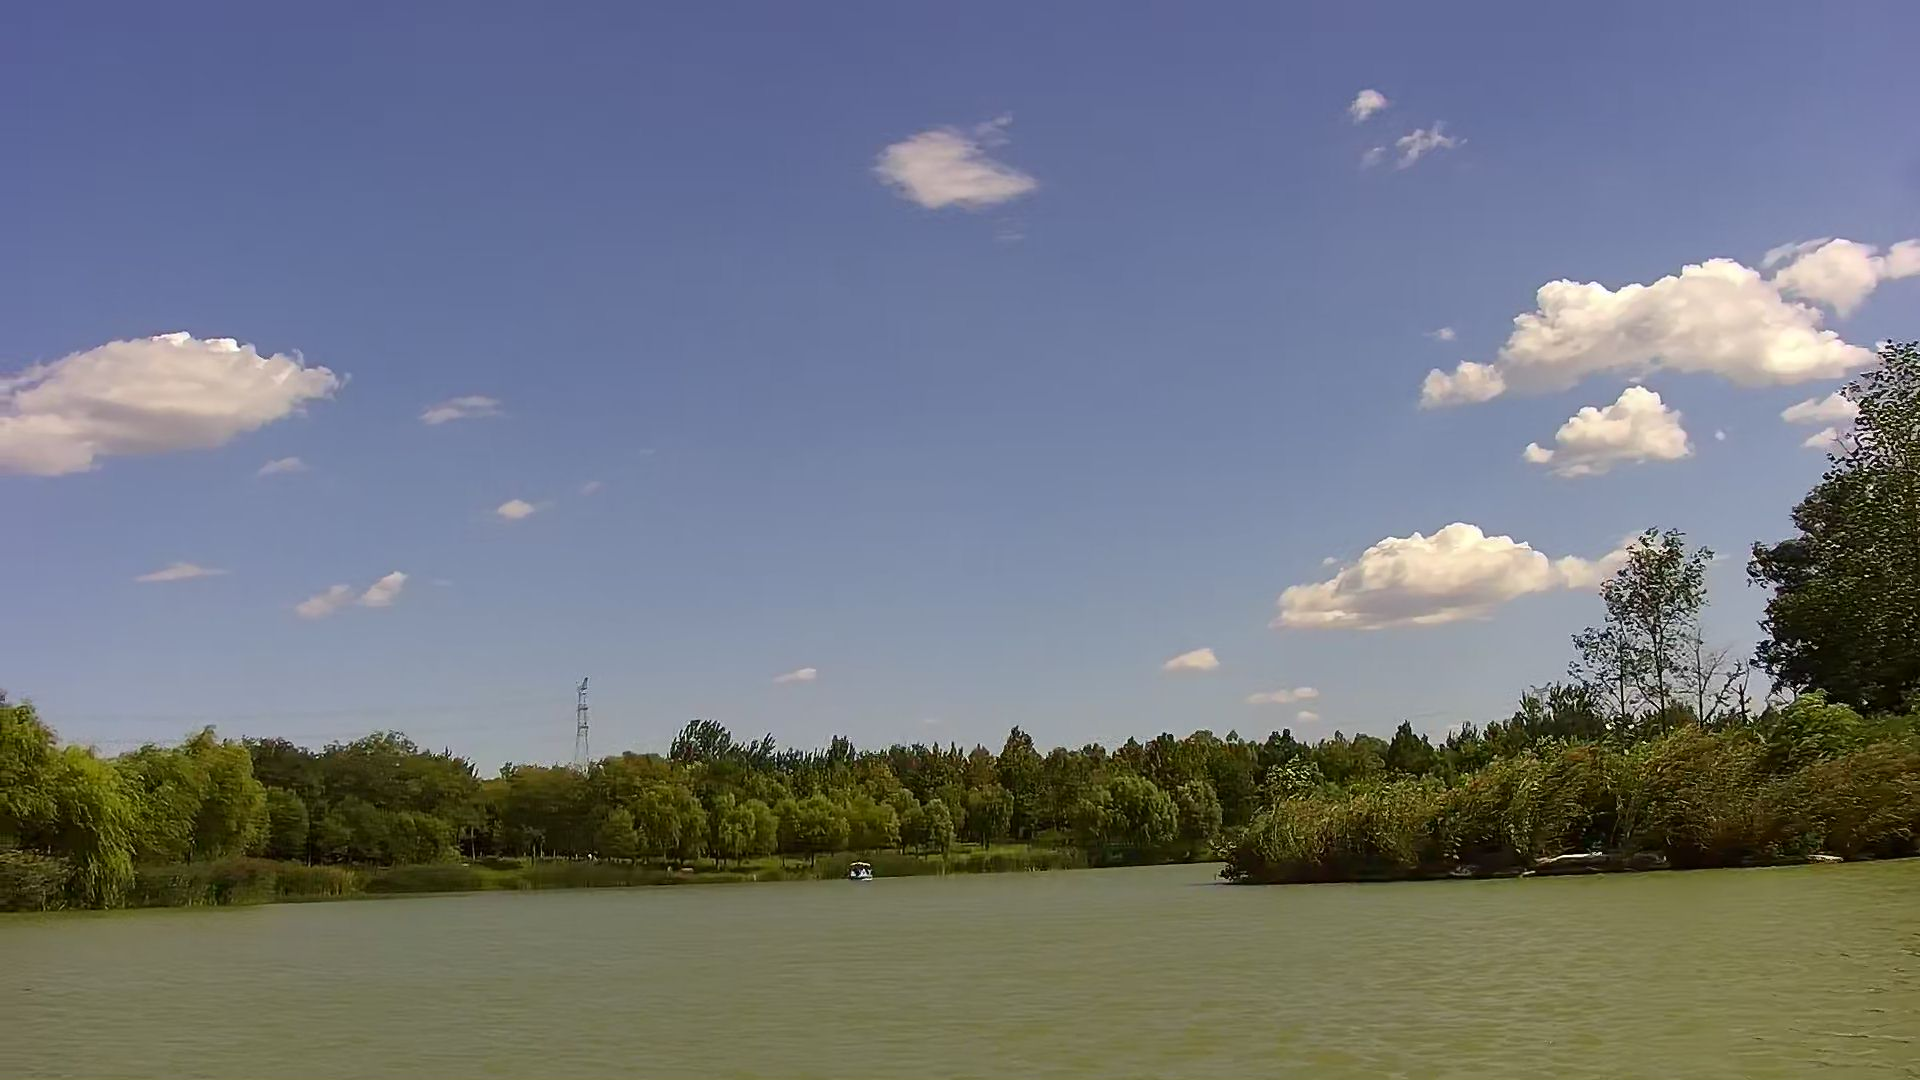boat: (843, 858, 878, 884)
